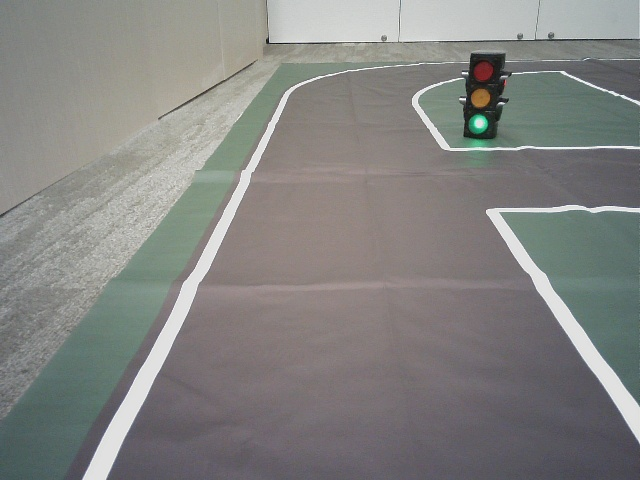green: (468, 58, 493, 137)
